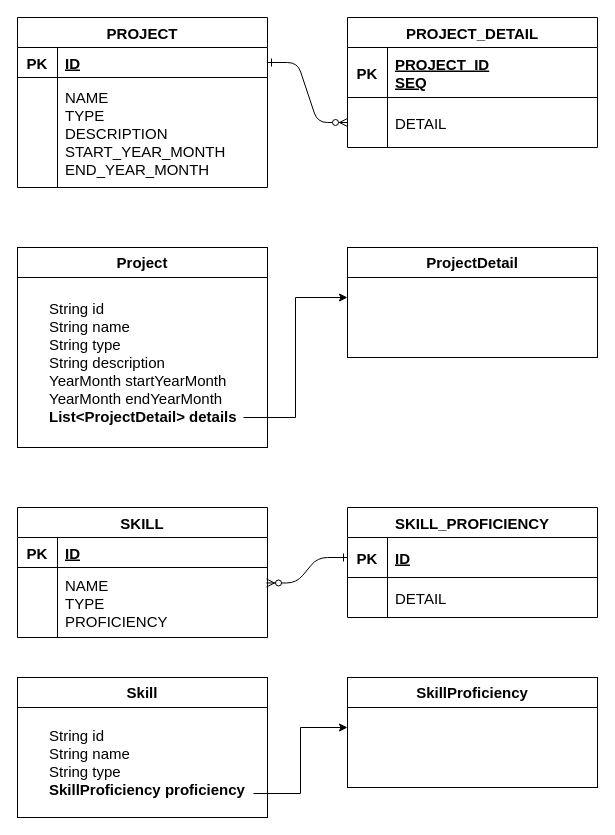
This 615x835 diagram has some shape labels left out. Here are the shapes that lost their labels. From the top down, the centre of each, then its label:
At point 472,317: "String projectId Integer seq String detail".
At point 472,747: "String projectId String detail".
